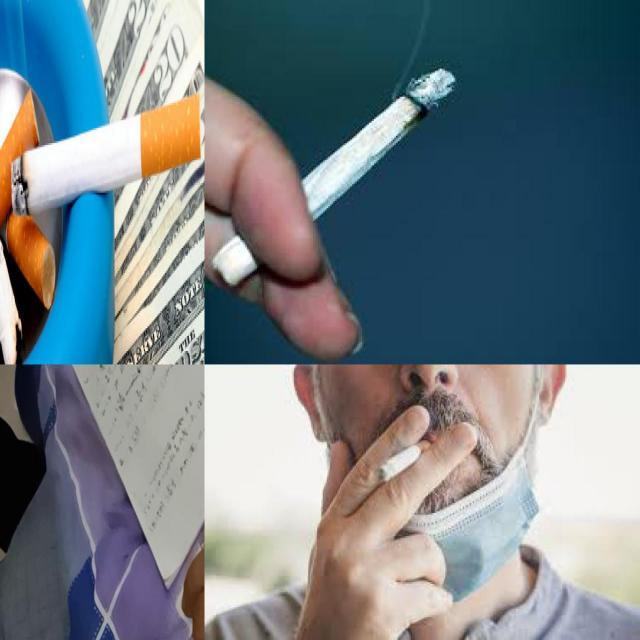cigarette: (212, 66, 457, 288), (6, 88, 204, 311), (376, 440, 432, 483)
